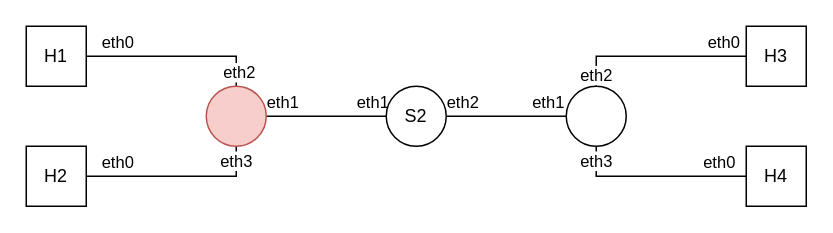
The diagram is 833 pixels wide and 233 high, and some of its shapes have lost their labels. Each missing label, with the centre of its shape:
"S1" belongs at (235,115).
"S3" belongs at (595,115).
